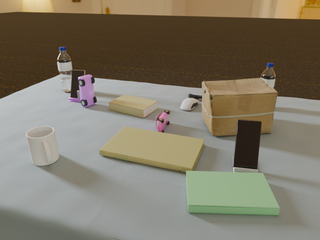book: (100, 126, 205, 173), (186, 171, 280, 216), (109, 95, 158, 118)
bottle: (57, 47, 72, 92), (261, 63, 276, 88)
box: (202, 78, 278, 136)
cup: (26, 126, 59, 166)
mouse: (180, 98, 199, 110)
phone: (233, 120, 262, 169), (70, 70, 85, 98)
toy_car: (77, 75, 97, 107), (156, 110, 170, 132)
